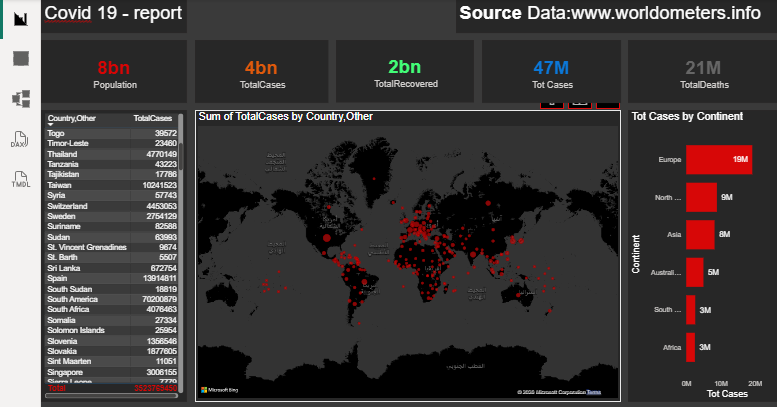

The page's visual inventory and layout, read from the dashboard file:
{"tool":"powerbi","page":{"name":"Page 1","canvas":[1280,720],"ordinal":0},"visuals":[{"type":"map","fields":{"Category":["Table 1.Country,Other"],"Size":["Sum(Table 1.TotalCases)"]},"box":[267.1,192.5,738.9,506.4],"z":0},{"type":"card","fields":{"Values":["Sum(Table 1.TotalCases)"]},"box":[267.1,71.1,230.7,109.3],"z":1},{"type":"card","fields":{"Values":["Sum(Table 1.TotalRecovered)"]},"box":[511.7,71.1,239.3,107.5],"z":2},{"type":"card","fields":{"Values":["Sum(Table 1.TotalDeaths)"]},"box":[1018.1,71.1,261.9,109.3],"z":3},{"type":"card","fields":{"Values":["Sum(Table 1.Tot Cases/1M pop)"]},"box":[764.9,71.1,241.1,109.3],"z":4},{"type":"card","fields":{"Values":["Sum(Table 1.Population)"]},"box":[0,71.1,253.2,109.3],"z":5},{"type":"tableEx","fields":{"Values":["Table 1.Country,Other","Sum(Table 1.TotalCases)"]},"box":[0,192.5,253.2,506.4],"z":6},{"type":"clusteredBarChart","fields":{"Category":["Table 1.Continent","Table 1.Country,Other"],"Y":["Sum(Table 1.Tot Cases/1M pop)"]},"box":[1018.1,192.5,261.9,506.4],"z":7},{"type":"textbox","box":[0,0,253.2,59],"z":8},{"type":"textbox","box":[719.8,0,560.2,59],"z":9}]}

Visuals, with their boxes in screenshot pixels (x1, y1, x2, y2):
map - Table 1.Country,Other x Sum(Table 1.TotalCases): bbox=(193, 109, 619, 402)
card - Sum(Table 1.TotalCases): bbox=(193, 39, 326, 102)
card - Sum(Table 1.TotalRecovered): bbox=(334, 39, 472, 101)
card - Sum(Table 1.TotalDeaths): bbox=(626, 39, 776, 102)
card - Sum(Table 1.Tot Cases/1M pop): bbox=(480, 39, 619, 102)
card - Sum(Table 1.Population): bbox=(38, 39, 185, 102)
tableEx - Table 1.Country,Other x Sum(Table 1.TotalCases): bbox=(38, 109, 185, 402)
clusteredBarChart - Table 1.Continent x Table 1.Country,Other: bbox=(626, 109, 776, 402)
textbox: bbox=(38, 0, 185, 32)
textbox: bbox=(454, 0, 776, 32)
